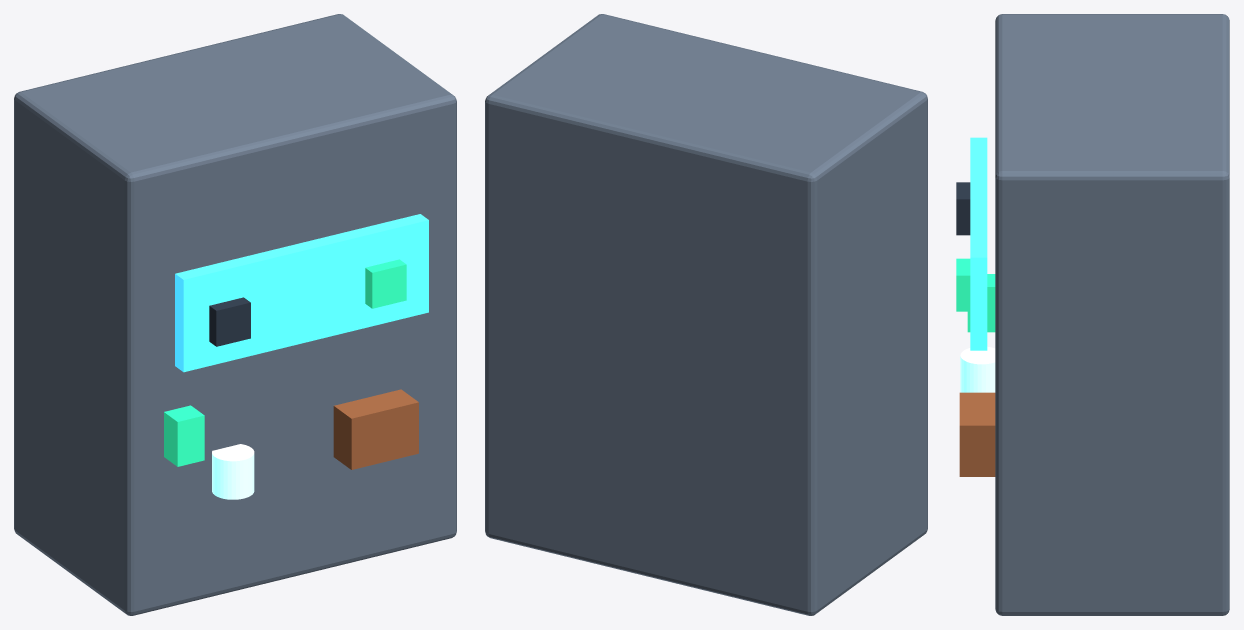
The model's file is commercial-fryer-training.glb.
The picture shows the model from 3 angles, left to right: view 1: azimuth 30°, elevation 25°; view 2: azimuth 150°, elevation 25°; view 3: azimuth 270°, elevation 25°; orthographic projection.
Visible parts, largest first — view 1: FRYER_BODY, CONTROL_FACE, COMP_GAS_VALVE, COMP_FLAME_SAFETY, COMP_IGNITER_PILOT, COMP_HIGH_LIMIT, COMP_THERMOSTAT; view 2: FRYER_BODY; view 3: FRYER_BODY, CONTROL_FACE, COMP_GAS_VALVE, COMP_IGNITER_PILOT, COMP_THERMOSTAT, COMP_HIGH_LIMIT, COMP_FLAME_SAFETY.
Part boxes in pixels (x1,y1,x2,y2): FRYER_BODY: (14, 14, 456, 615); CONTROL_FACE: (175, 214, 428, 372); COMP_GAS_VALVE: (333, 389, 418, 469); COMP_FLAME_SAFETY: (164, 405, 204, 466); COMP_IGNITER_PILOT: (212, 444, 254, 499); COMP_HIGH_LIMIT: (365, 259, 406, 308); COMP_THERMOSTAT: (209, 297, 250, 346); FRYER_BODY: (485, 14, 927, 615); FRYER_BODY: (995, 14, 1229, 615); CONTROL_FACE: (970, 137, 987, 350); COMP_GAS_VALVE: (959, 392, 995, 476); COMP_IGNITER_PILOT: (960, 346, 995, 392); COMP_THERMOSTAT: (956, 182, 970, 235); COMP_HIGH_LIMIT: (956, 258, 970, 311); COMP_FLAME_SAFETY: (967, 274, 995, 332).
Size of the model in its own units: 2.7 by 3.45 by 1.92.
